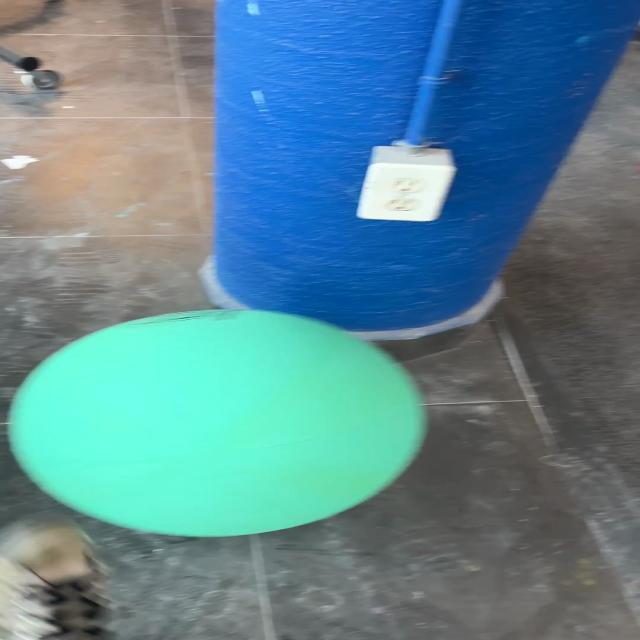Algae: (6, 308, 428, 538)
